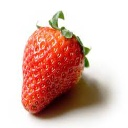strawberry: (20, 19, 90, 114)
